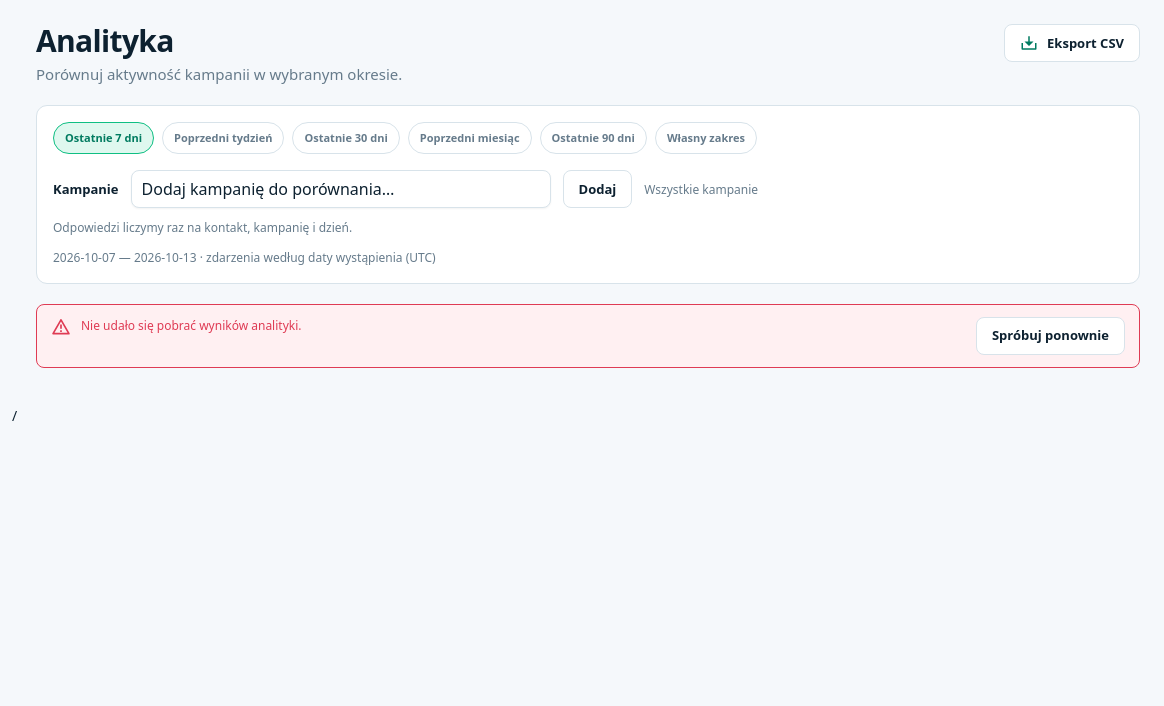
Test: reference board loading / empty / error states › keeps analytics fetch errors distinct from zero activity and allows retry
Expected: the text "Nie udało się pobrać wyników analityki." is shown, [81,317,302,334]
Expected: the text "Brak danych" is not shown
What coordinates should you click on to do the following:
click the button "Spróbuj ponownie"
I would click on:
 (1050, 336)
Its box is [976,317,1125,355].
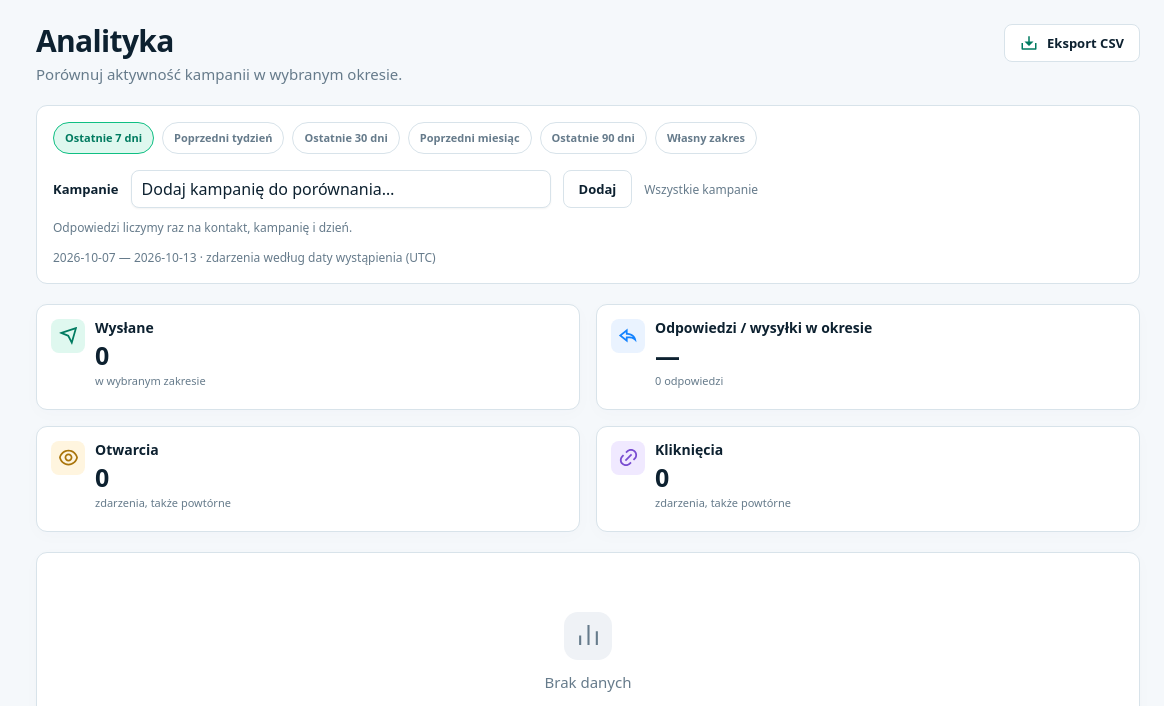
Expected: the heading "Brak danych" is shown, [544,672,632,694]
